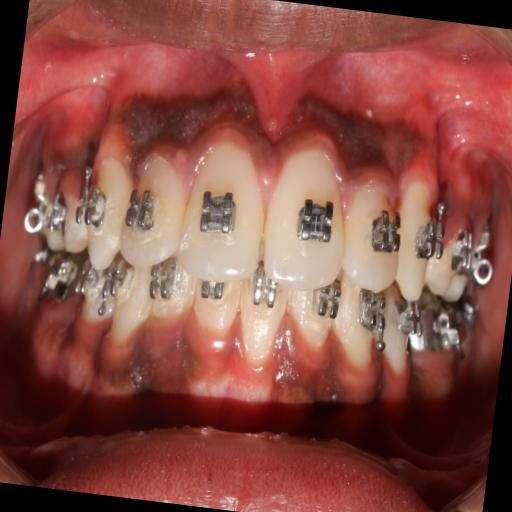correct_brace: (193, 182, 243, 244), (291, 190, 340, 250), (364, 203, 410, 263), (122, 182, 162, 237)
incorrect_brace: (340, 166, 414, 298), (112, 150, 188, 276)
